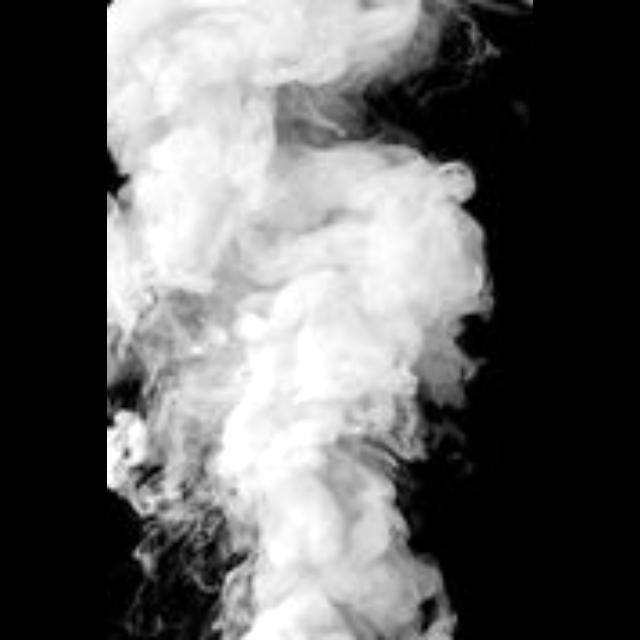smoke: (107, 0, 489, 640)
